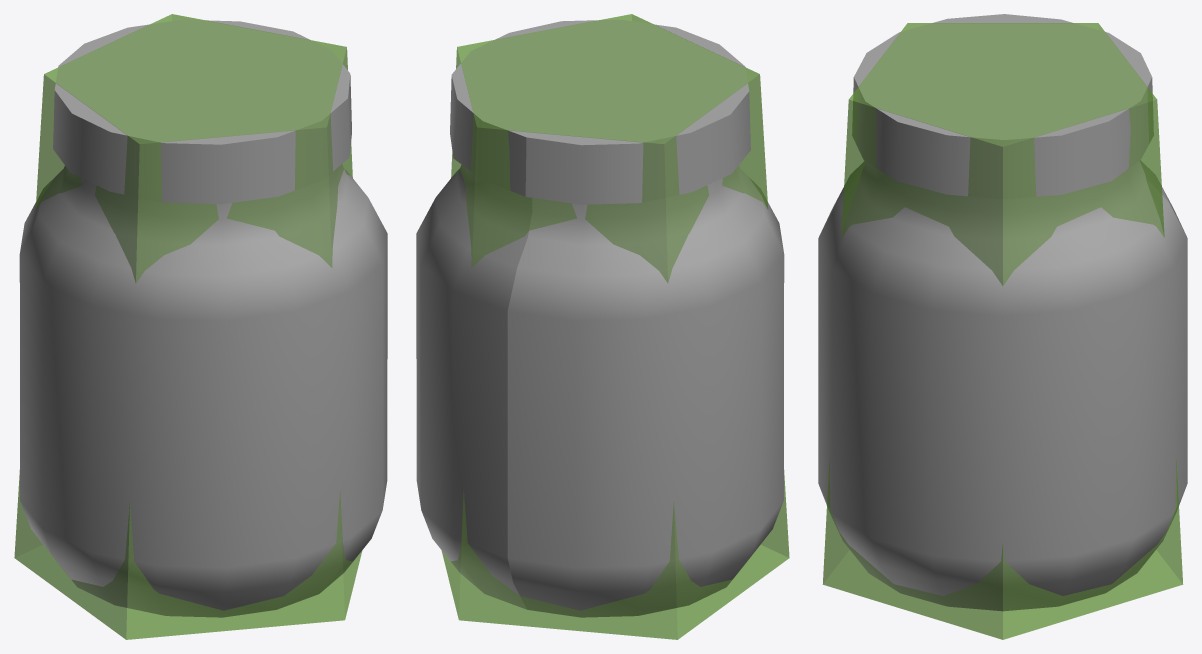
Rendered from p_GlassJar_02_b.fbx.
3 views of the same model, side by side, from view 1: azimuth 30°, elevation 25°; view 2: azimuth 150°, elevation 25°; view 3: azimuth 270°, elevation 25° (orthographic).
Parts seen in each view (by area): view 1: p_GlassJar_02_b_LOD0, p_GlassJar_02_b_col; view 2: p_GlassJar_02_b_LOD0, p_GlassJar_02_b_col; view 3: p_GlassJar_02_b_LOD0, p_GlassJar_02_b_col.
Boxes of the visible parts, x1,y1,x2,y2 form: p_GlassJar_02_b_LOD0: [19, 19, 387, 617]; p_GlassJar_02_b_col: [14, 14, 362, 639]; p_GlassJar_02_b_LOD0: [416, 19, 784, 617]; p_GlassJar_02_b_col: [441, 14, 789, 639]; p_GlassJar_02_b_LOD0: [818, 14, 1187, 611]; p_GlassJar_02_b_col: [822, 23, 1183, 639].
Size of what is drawn, in the model's own units: 12.24 by 17.42 by 12.08.
